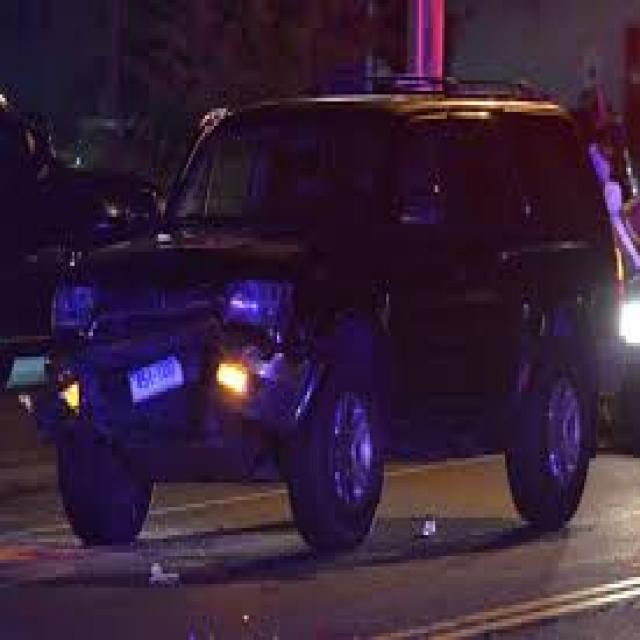minor: (0, 170, 361, 514)
